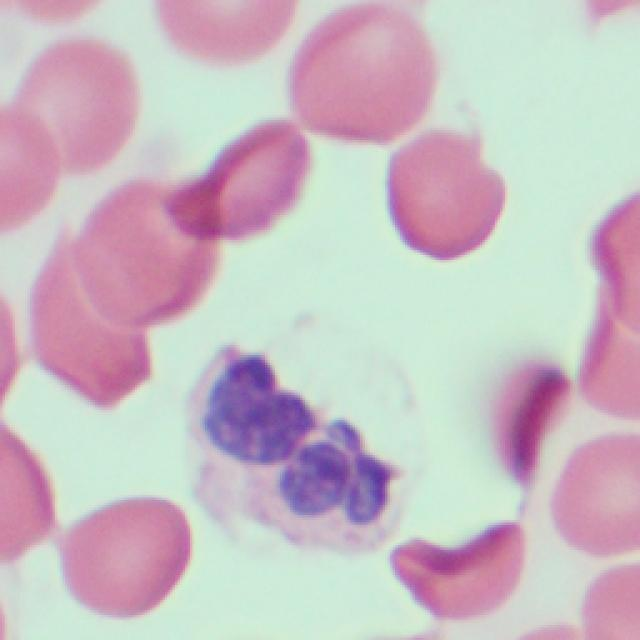RBC: (28, 168, 162, 410), (291, 0, 439, 153), (70, 177, 209, 334), (19, 22, 141, 184), (54, 498, 190, 619), (196, 110, 309, 252), (377, 133, 500, 262), (145, 0, 299, 73), (588, 183, 640, 370), (0, 413, 49, 580), (574, 563, 640, 640)
WBC: (187, 308, 444, 600)
